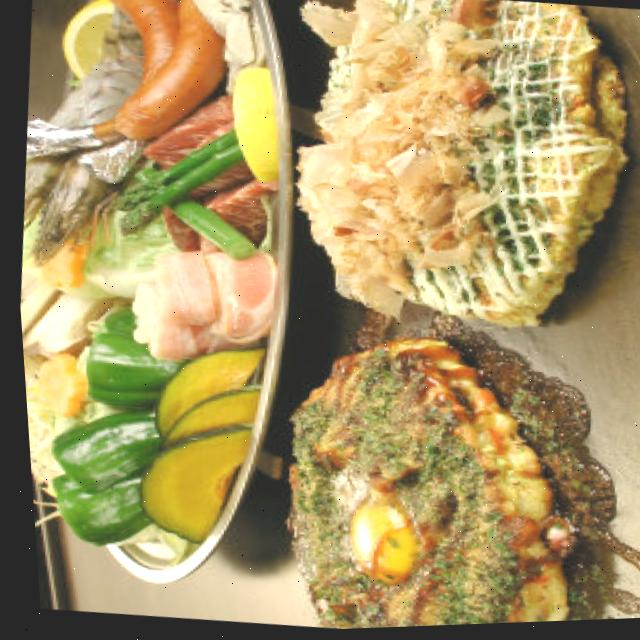蛋糕甜品: (264, 0, 638, 338)
